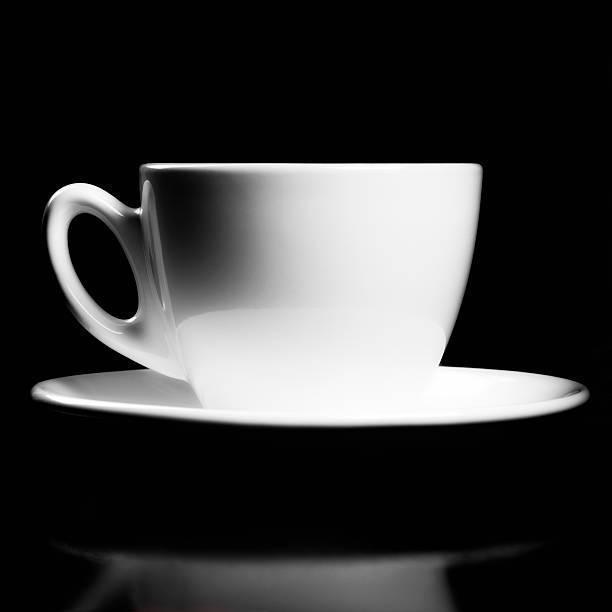cup-handle: (41, 159, 485, 413)
